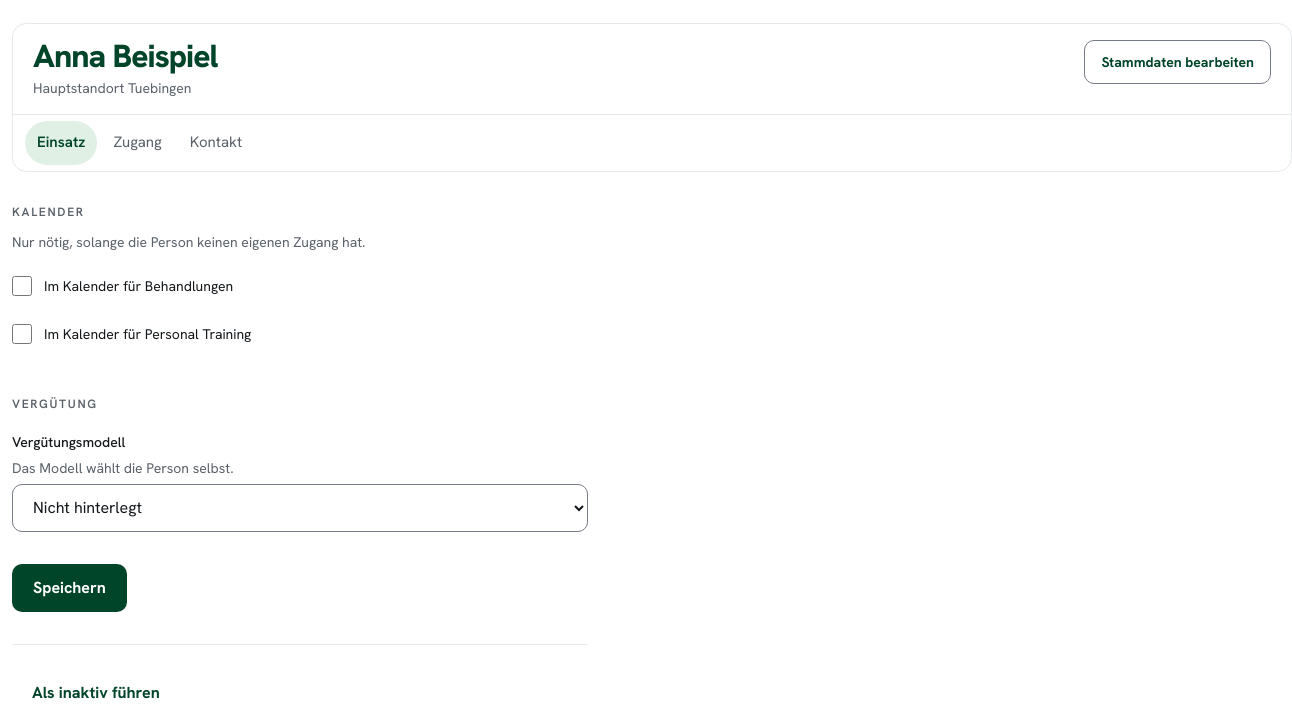
Test: StaffMemberDetailPage › zeigt die offenen Termine, wenn der Server die Deaktivierung abweist
(page scrolled)
Click the button "Als inaktiv führen" at [96, 693], box x1=12 y1=669 x2=180 y2=716
(page scrolled)
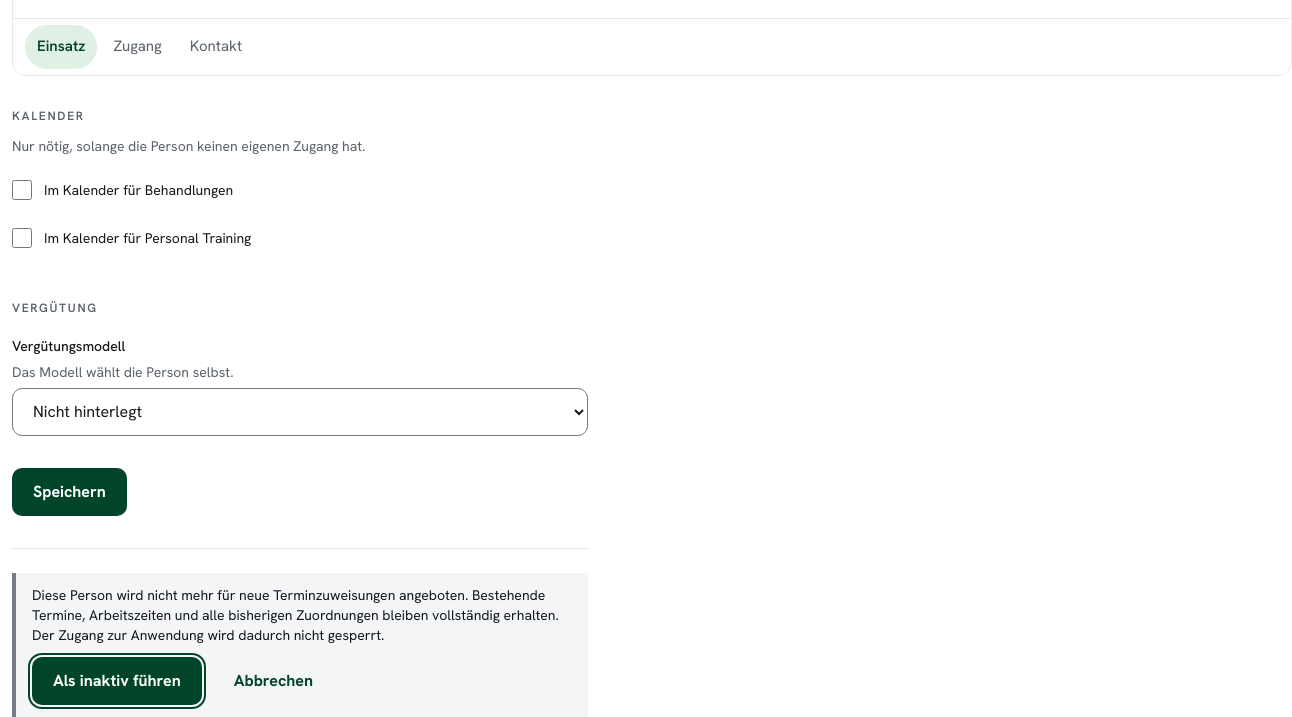
Click the button "Als inaktiv führen" at [117, 681], box x1=32 y1=657 x2=202 y2=705
(page scrolled)
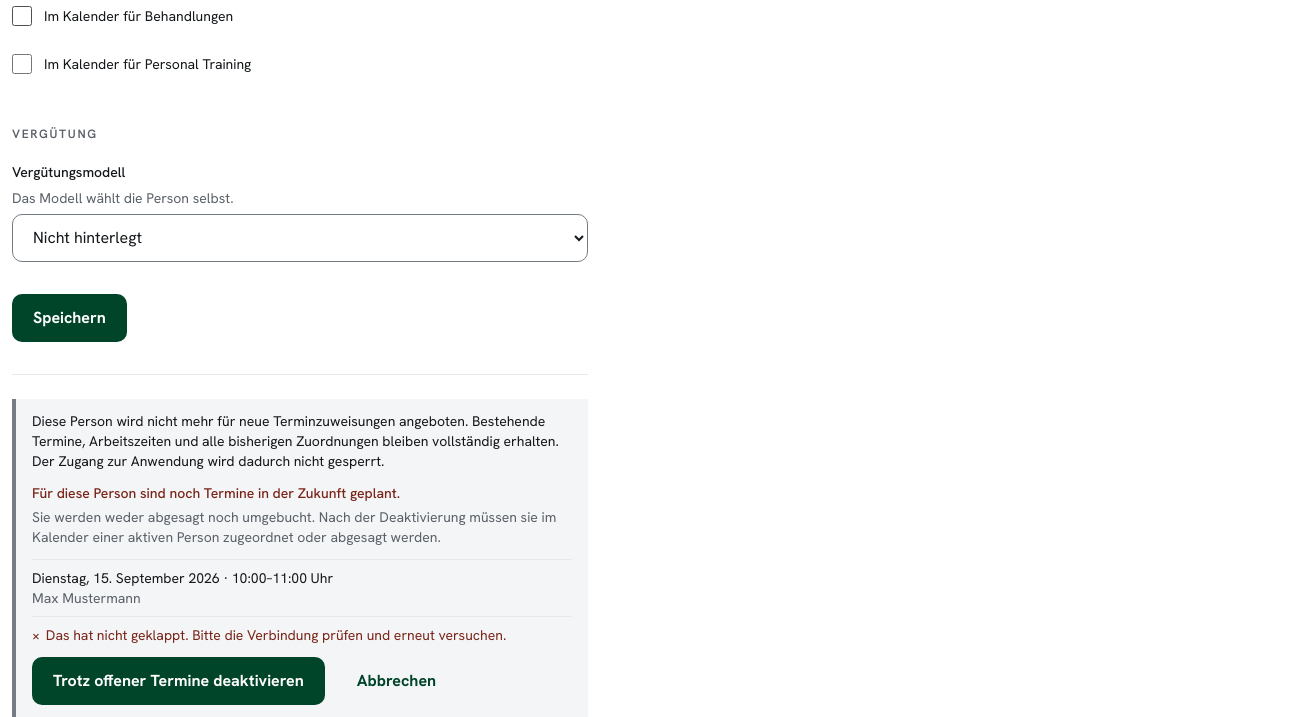
Expected: the text "Für diese Person sind noch Termine in der Zukunft geplant." is shown, x1=32 y1=484 x2=400 y2=502
Expected: the text "Max Mustermann" is shown, x1=32 y1=589 x2=141 y2=607
Expected: the text "weder abgesagt noch umgebucht" is shown, x1=32 y1=508 x2=556 y2=546
